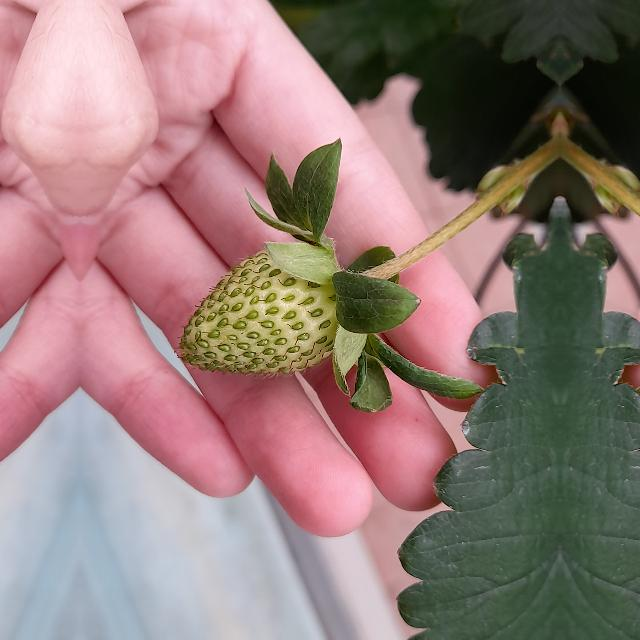Health_25: (178, 250, 338, 374)
